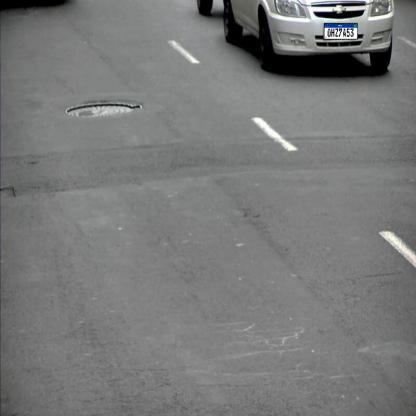PlacaM: (324, 23, 358, 39)
